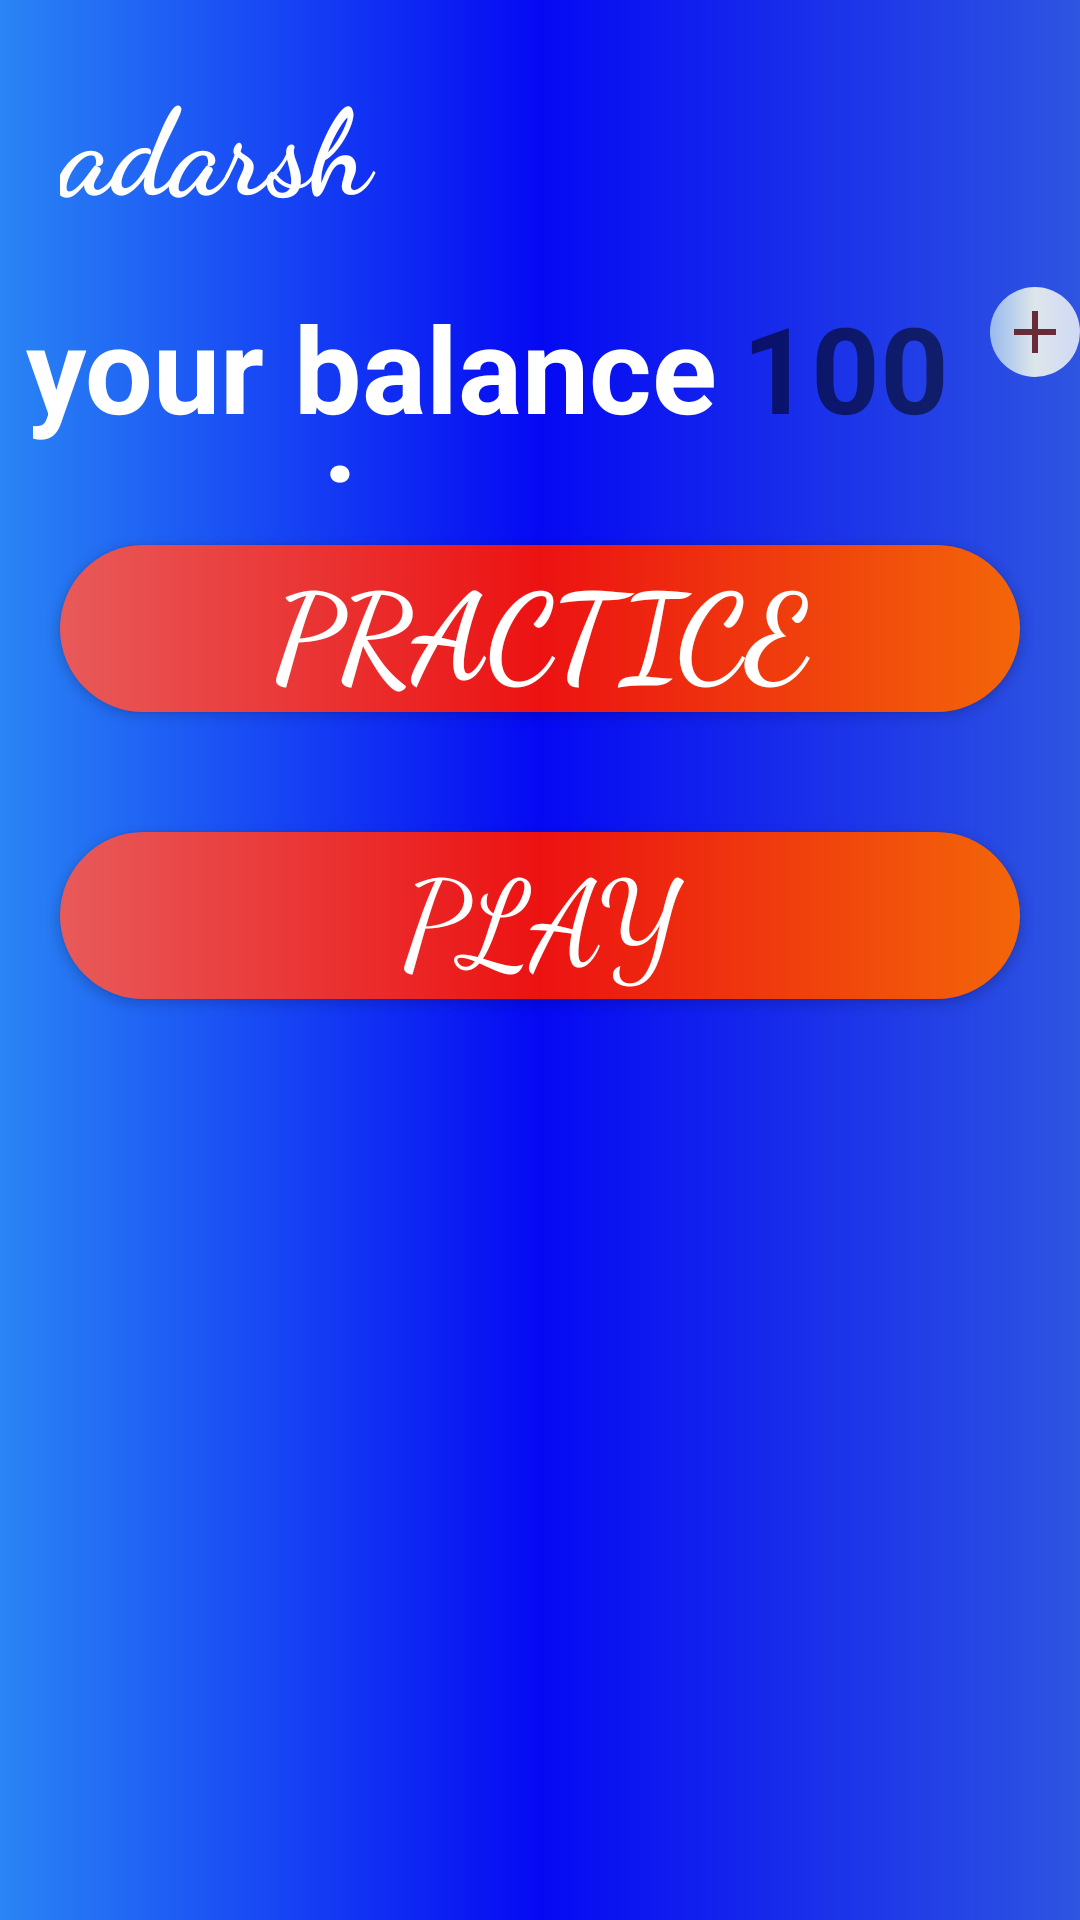

Locate icon controls on the screen. Image size 1080px x 1920px, boxes as (x1, y1, x2, y2).
add amount: (990, 287, 1080, 377)
